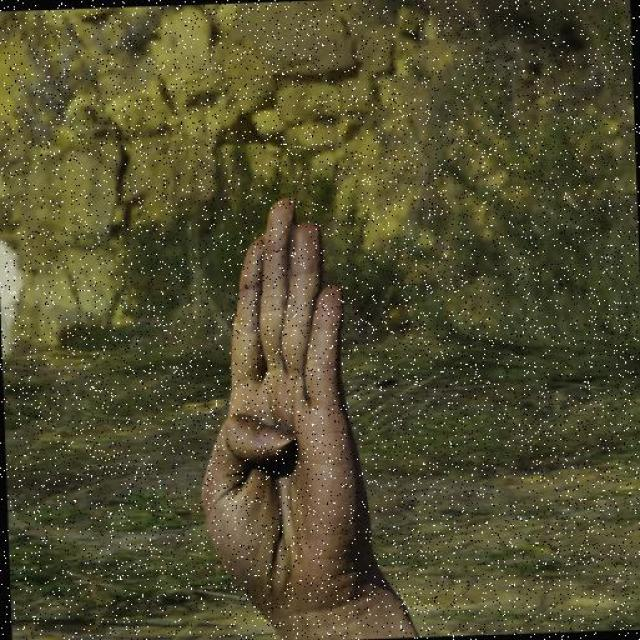B: (185, 184, 386, 607)
